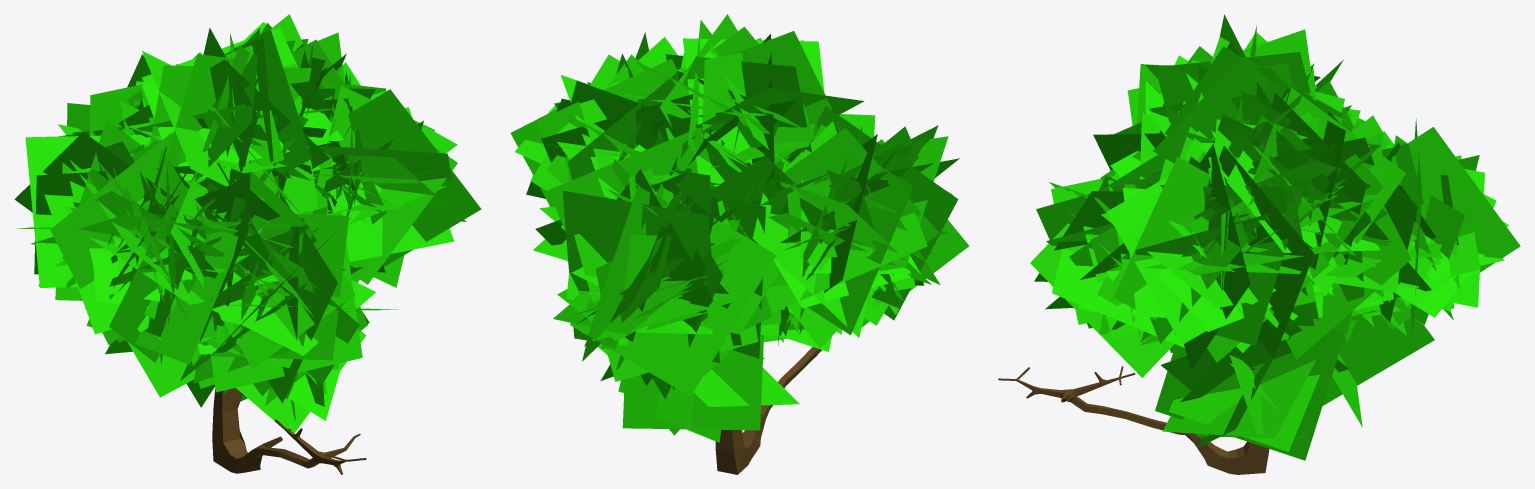
File: treeRiver.fbx
3 renders of one model, left to right at view 1: azimuth 30°, elevation 25°; view 2: azimuth 150°, elevation 25°; view 3: azimuth 270°, elevation 25°, orthographic.
Parts seen in each view (by area): view 1: Plane|Leaf|Dupli|290, Plane|Leaf|Dupli|193, Plane, Plane|Leaf|Dupli|338, Plane|Leaf|Dupli|180, Plane|Leaf|Dupli|47, Plane|Leaf|Dupli|226, Plane|Leaf|Dupli|85, Plane|Leaf|Dupli|358, Plane|Leaf|Dupli|30, Plane|Leaf|Dupli|335, Plane|Leaf|Dupli|201 (+58 smaller); view 2: Plane|Leaf|Dupli|278, Plane|Leaf|Dupli|32, Plane|Leaf|Dupli|, Plane|Leaf|Dupli|323, Plane|Leaf|Dupli|464, Plane|Leaf|Dupli|193, Plane|Leaf|Dupli|327, Plane|Leaf|Dupli|320, Plane|Leaf|Dupli|26, Plane|Leaf|Dupli|201, Plane|Leaf|Dupli|325, Plane|Leaf|Dupli|184 (+59 smaller); view 3: Plane|Leaf|Dupli|26, Plane|Leaf|Dupli|306, Plane|Leaf|Dupli|286, Plane|Leaf|Dupli|290, Plane|Leaf|Dupli|174, Plane|Leaf|Dupli|293, Plane, Plane|Leaf|Dupli|358, Plane|Leaf|Dupli|482, Plane|Leaf|Dupli|409, Plane|Leaf|Dupli|282, Plane|Leaf|Dupli|408 (+58 smaller).
Part boxes in pixels (x1,y1,x2,y2): Plane|Leaf|Dupli|290: (348,89,481,266); Plane|Leaf|Dupli|193: (50,132,186,345); Plane: (212,287,366,474); Plane|Leaf|Dupli|338: (86,226,237,364); Plane|Leaf|Dupli|180: (25,134,147,287); Plane|Leaf|Dupli|47: (213,214,348,360); Plane|Leaf|Dupli|226: (210,210,362,392); Plane|Leaf|Dupli|85: (319,107,454,261); Plane|Leaf|Dupli|358: (224,29,311,174); Plane|Leaf|Dupli|30: (268,190,337,403); Plane|Leaf|Dupli|335: (109,203,179,362); Plane|Leaf|Dupli|201: (152,54,233,204); Plane|Leaf|Dupli|278: (570,188,776,396); Plane|Leaf|Dupli|32: (562,190,719,362); Plane|Leaf|Dupli|: (622,334,763,430); Plane|Leaf|Dupli|323: (807,165,913,335); Plane|Leaf|Dupli|464: (548,127,710,231); Plane|Leaf|Dupli|193: (817,106,958,320); Plane|Leaf|Dupli|327: (784,128,939,254); Plane|Leaf|Dupli|320: (765,212,927,312); Plane|Leaf|Dupli|26: (588,186,668,349); Plane|Leaf|Dupli|201: (732,31,832,143); Plane|Leaf|Dupli|325: (752,194,867,337); Plane|Leaf|Dupli|184: (570,81,711,149); Plane|Leaf|Dupli|26: (1381,127,1520,329); Plane|Leaf|Dupli|306: (1155,329,1345,460); Plane|Leaf|Dupli|286: (1219,146,1314,358); Plane|Leaf|Dupli|290: (1113,157,1209,330); Plane|Leaf|Dupli|174: (1322,314,1434,405); Plane|Leaf|Dupli|293: (1106,176,1206,344); Plane: (998,123,1269,474); Plane|Leaf|Dupli|358: (1153,57,1343,163); Plane|Leaf|Dupli|482: (1285,205,1411,359); Plane|Leaf|Dupli|409: (1162,359,1316,438); Plane|Leaf|Dupli|282: (1216,183,1304,345); Plane|Leaf|Dupli|408: (1169,374,1319,451).
Size of the model in its own units: 2285 by 2301 by 2512.
